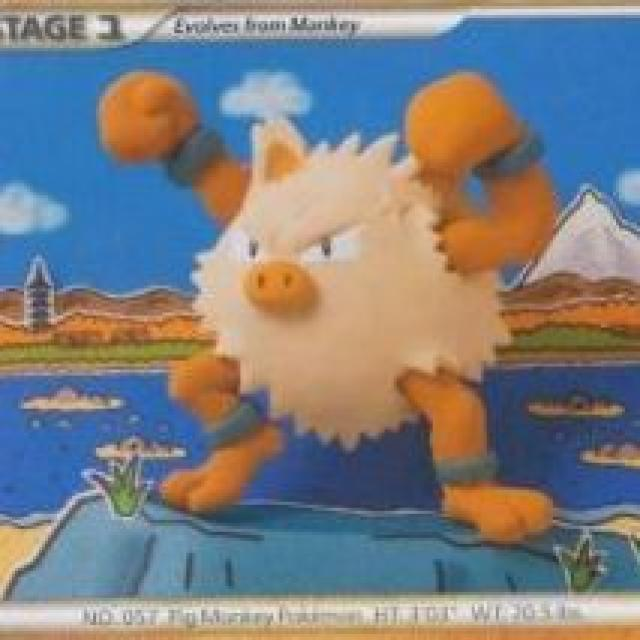Primeape: (158, 111, 539, 502)
